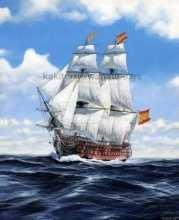fanchuan: (35, 32, 151, 163)
